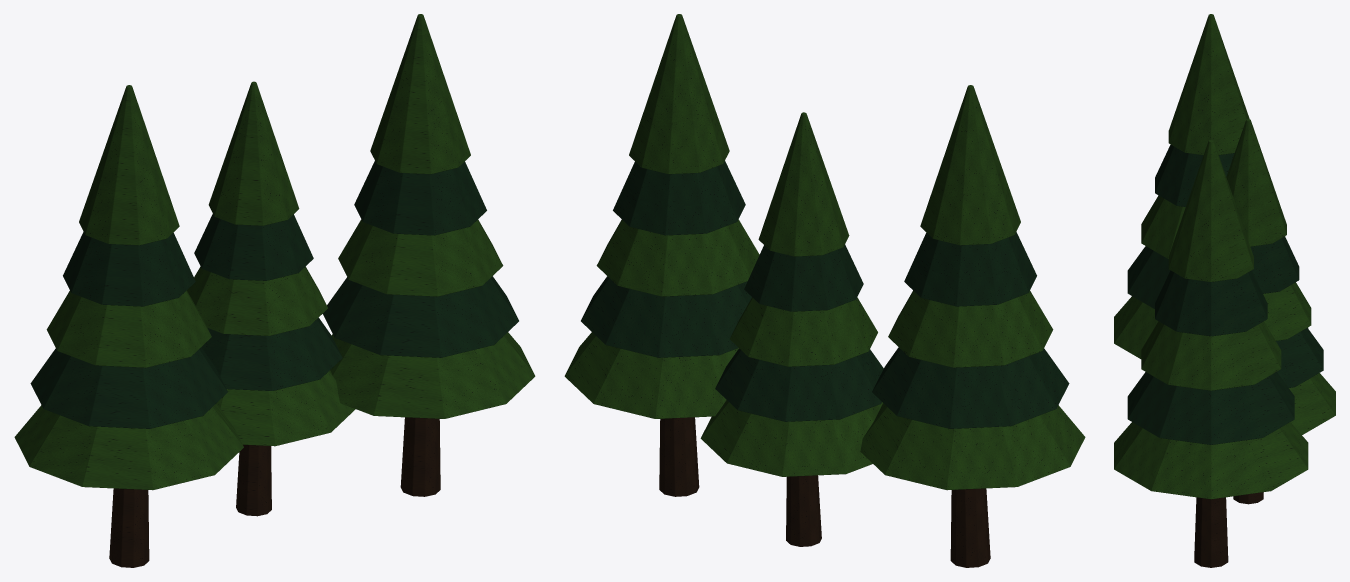
File: PROP-3144CAFE9465_lod1.glb
3 views of the same model, side by side, from view 1: azimuth 30°, elevation 25°; view 2: azimuth 150°, elevation 25°; view 3: azimuth 270°, elevation 25° (orthographic). The views are drawn at different scales.
Parts seen in each view (by area): view 1: layered_conifer_crown.002, layered_conifer_crown.003, trunk.001; view 2: layered_conifer_crown.002, layered_conifer_crown.003, trunk.001; view 3: layered_conifer_crown.002, layered_conifer_crown.003, trunk.001.
Part boxes in pixels (<box>): layered_conifer_crown.002: <box>14,14,535,490</box>; layered_conifer_crown.003: <box>30,161,518,428</box>; trunk.001: <box>109,417,440,567</box>; layered_conifer_crown.002: <box>564,14,1085,490</box>; layered_conifer_crown.003: <box>581,161,1069,428</box>; trunk.001: <box>659,417,990,567</box>; layered_conifer_crown.002: <box>1114,14,1335,499</box>; layered_conifer_crown.003: <box>1127,144,1323,444</box>; trunk.001: <box>1194,492,1263,567</box>.
Size of the model in its own units: 6.75 by 6.22 by 2.98.
Materials: 3 (3 with a texture image).
